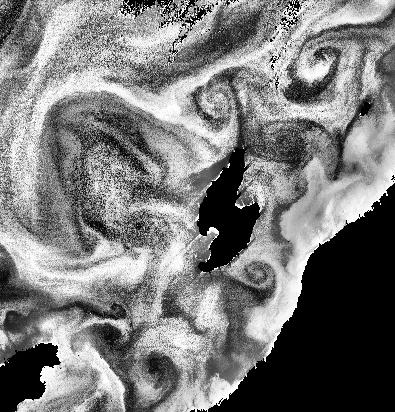CE: (134, 326, 184, 401), (183, 75, 240, 134), (296, 35, 353, 80), (228, 254, 274, 291)
